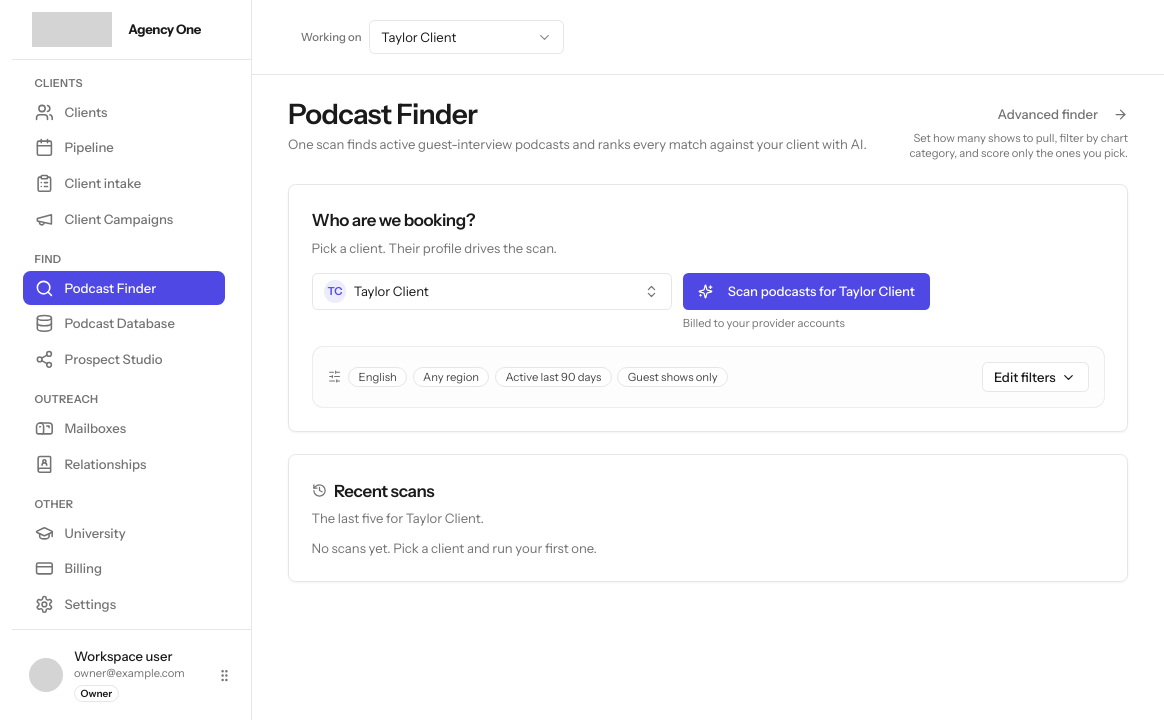
Scenario: WorkspaceSmartPodcastFinder › keeps paging past a page that only held duplicate feeds
What coordinates should you click on to do the following:
click the button "Scan podcasts for Taylor Client"
I would click on:
 (806, 292)
Its box is [683,273,930,310].
(page scrolled)
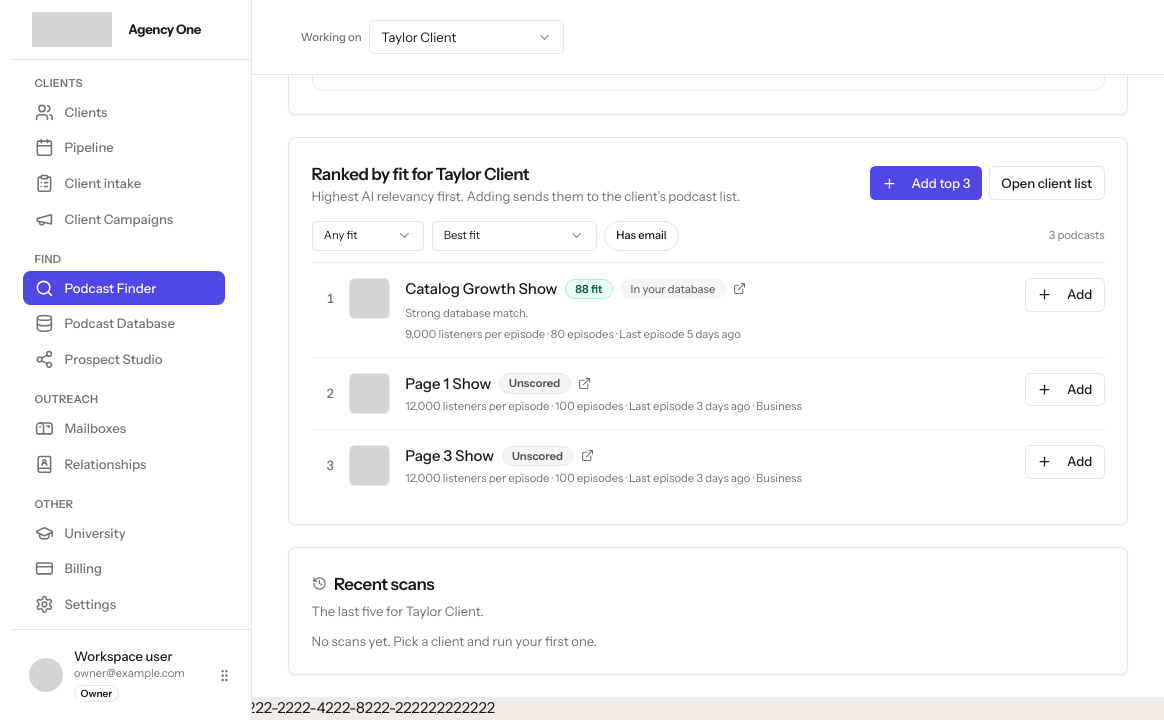
Expected: the text "Ranked by fit for Taylor Client" is shown, [312,164,529,184]
Expected: the text "Page 3 Show" is shown, [405,445,494,467]
